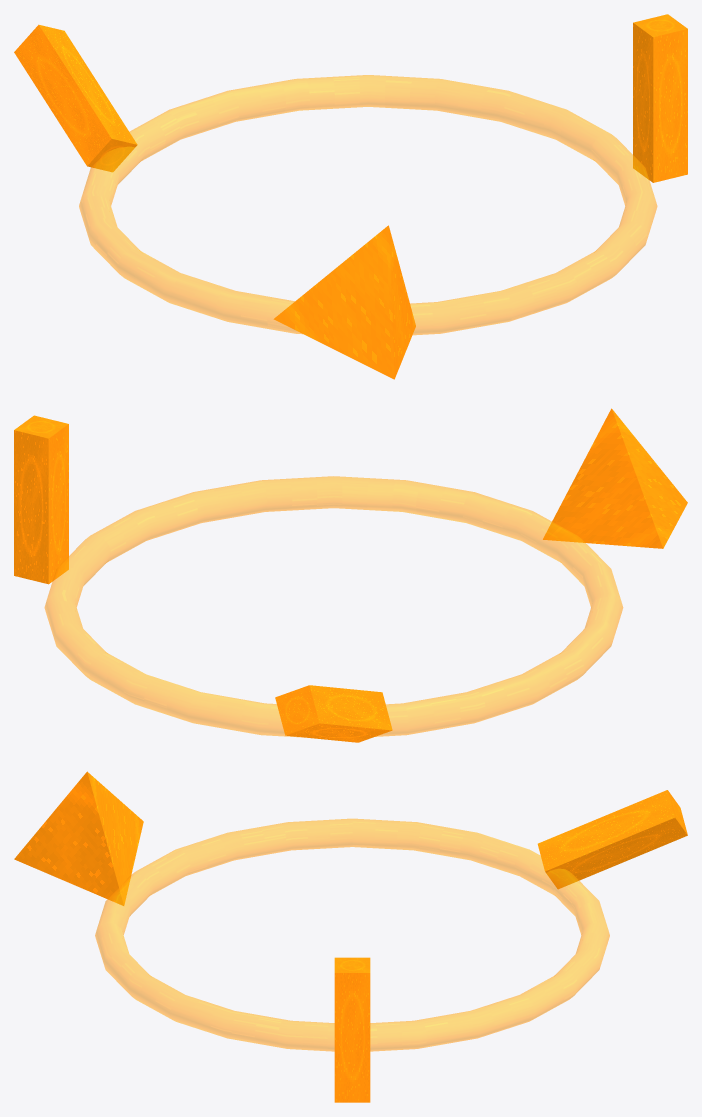
Rendered from miranda-engine-note.collider.glb.
The picture shows the model from 3 angles, top to bottom: view 1: azimuth 30°, elevation 25°; view 2: azimuth 150°, elevation 25°; view 3: azimuth 270°, elevation 25°; orthographic projection. The views are drawn at different scales.
Parts seen in each view (by area): view 1: story-marker-amber-transparent|#ffaa00|#ffaa00|0.38|1|0.04|0, story-marker-amber-body; view 2: story-marker-amber-transparent|#ffaa00|#ffaa00|0.38|1|0.04|0, story-marker-amber-body; view 3: story-marker-amber-transparent|#ffaa00|#ffaa00|0.38|1|0.04|0, story-marker-amber-body.
Boxes of the visible parts, x1,y1,x2,y2 form: story-marker-amber-transparent|#ffaa00|#ffaa00|0.38|1|0.04|0: (79,75,657,335); story-marker-amber-body: (14,14,687,379); story-marker-amber-transparent|#ffaa00|#ffaa00|0.38|1|0.04|0: (44,476,623,737); story-marker-amber-body: (14,408,687,742); story-marker-amber-transparent|#ffaa00|#ffaa00|0.38|1|0.04|0: (95,818,609,1051); story-marker-amber-body: (14,771,687,1102).
Bounding box in the file's own units: 0.805 × 0.2171 × 0.942.
2 materials, 2 textured.
